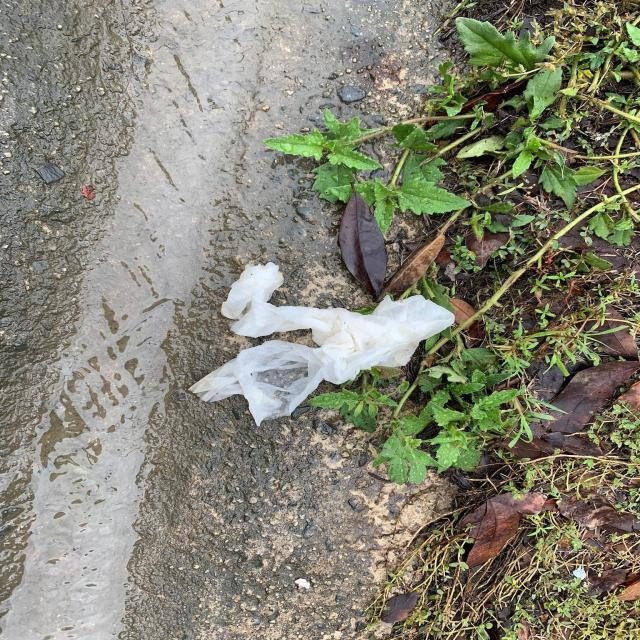litter: (188, 263, 454, 422)
